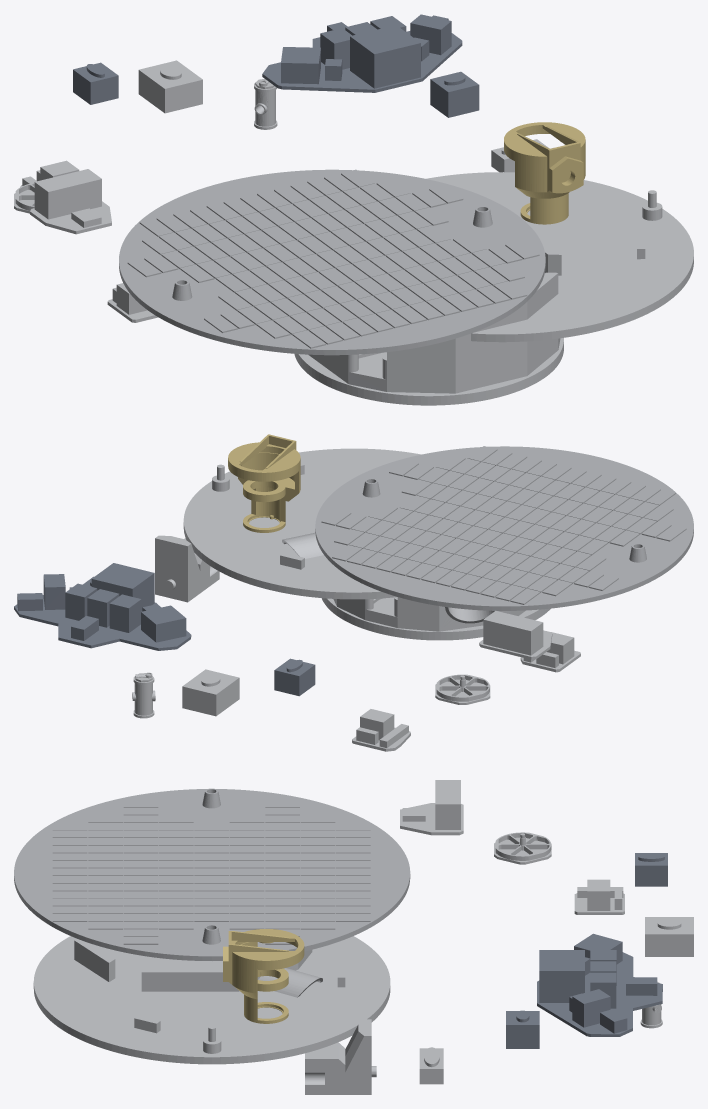
File: lisa-parts.glb
3 views of the same model, one above another, from view 1: azimuth 30°, elevation 25°; view 2: azimuth 150°, elevation 25°; view 3: azimuth 270°, elevation 25° (orthographic). The views are drawn at different scales.
Visible parts, largest first — view 1: Thruster.stl; view 2: Thruster.stl; view 3: Thruster.stl.
Boxes of the visible parts, <box> form: Thruster.stl: <box>14,14,693,405</box>; Thruster.stl: <box>14,434,693,751</box>; Thruster.stl: <box>14,780,693,1094</box>.
Size of the model in its own units: 0.8213 by 0.2235 by 1.
